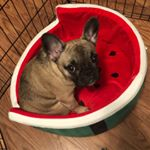puppy: (40, 14, 106, 114)
